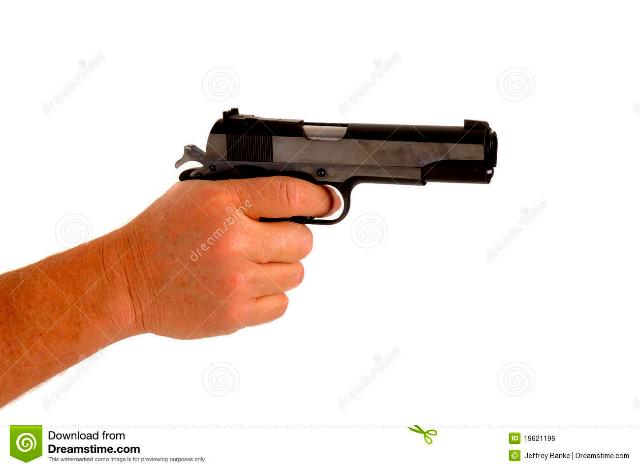pistol: (156, 106, 510, 338)
